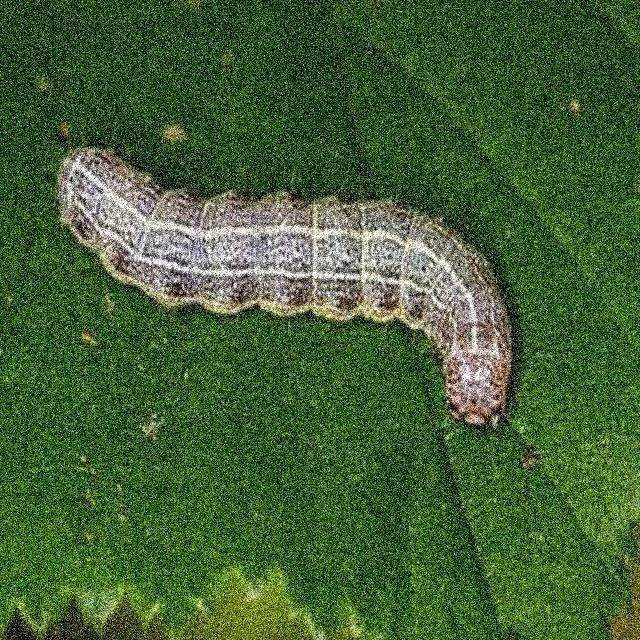Plaga: (63, 145, 510, 430)
